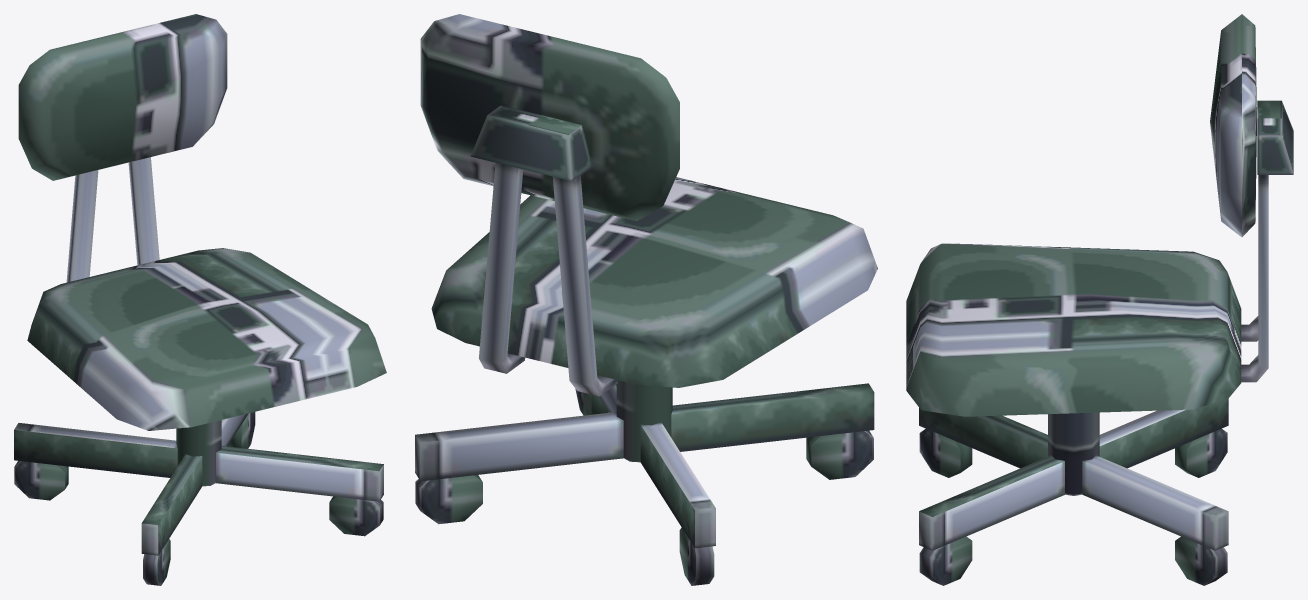
Rendered from int_ofc_chairS.dae.
3 views of the same model, side by side, from view 1: azimuth 30°, elevation 25°; view 2: azimuth 150°, elevation 25°; view 3: azimuth 270°, elevation 25° (orthographic). The views are drawn at different scales.
Visible parts, largest first — view 1: int_ofc_chairS; view 2: int_ofc_chairS; view 3: int_ofc_chairS.
Boxes of the visible parts, bbox=[...] form: int_ofc_chairS: bbox=[14, 14, 386, 585]; int_ofc_chairS: bbox=[415, 14, 877, 585]; int_ofc_chairS: bbox=[906, 14, 1293, 585].
Size of the model in its own units: 21.6 by 33.6 by 24.98.
1 material, 1 textured.
